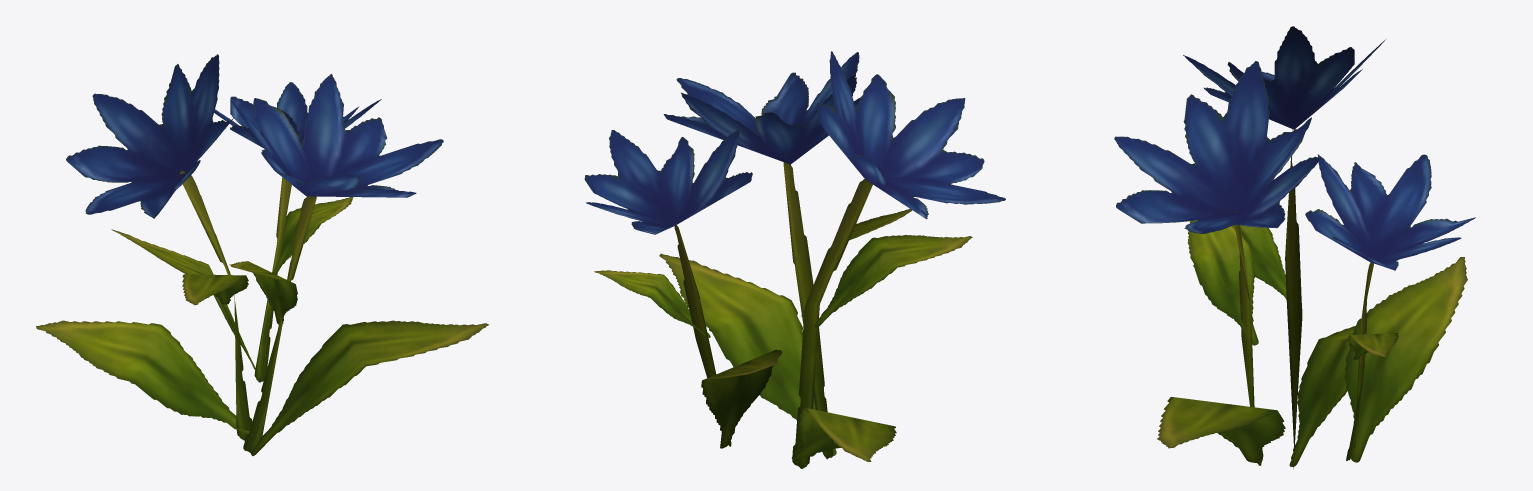
The model's file is flowers_blue.fbx.
3 renders of one model, left to right at view 1: azimuth 30°, elevation 25°; view 2: azimuth 150°, elevation 25°; view 3: azimuth 270°, elevation 25°, orthographic. The views are drawn at different scales.
Visible parts, largest first — view 1: flower_blue_group; view 2: flower_blue_group; view 3: flower_blue_group.
Part boxes in pixels (x1=…): flower_blue_group: x1=36, y1=54, x2=488, y2=455; flower_blue_group: x1=584, y1=51, x2=1005, y2=468; flower_blue_group: x1=1114, y1=26, x2=1475, y2=468.
Bounding box in the file's own units: 0.5228 × 0.5159 × 0.4626.
